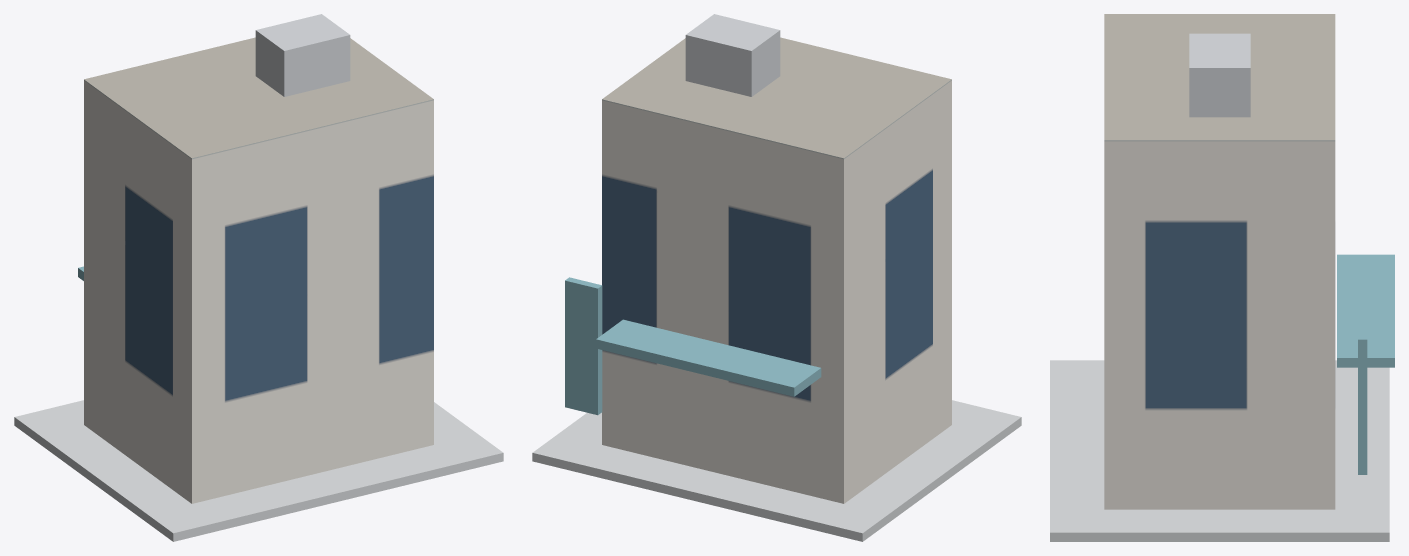
File: Area_shop.glb
3 renders of one model, left to right at view 1: azimuth 30°, elevation 25°; view 2: azimuth 150°, elevation 25°; view 3: azimuth 270°, elevation 25°, orthographic. The views are drawn at different scales.
Visible parts, largest first — view 1: bldg_shop, platform.003, roof_ac; view 2: bldg_shop, platform.003, awning.001, roof_ac, vsign.001; view 3: bldg_shop, platform.003, awning.001, roof_ac, vsign.001.
Boxes of the visible parts, left/top/right/bottom form: bldg_shop: left=84, top=37, right=433, bottom=503; platform.003: left=14, top=400, right=503, bottom=541; roof_ac: left=255, top=14, right=350, bottom=96; bldg_shop: left=602, top=37, right=951, bottom=503; platform.003: left=532, top=400, right=1021, bottom=541; awning.001: left=596, top=319, right=821, bottom=396; roof_ac: left=685, top=14, right=780, bottom=96; vsign.001: left=565, top=277, right=602, bottom=415; bldg_shop: left=1104, top=14, right=1335, bottom=509; platform.003: left=1050, top=360, right=1389, bottom=541; awning.001: left=1337, top=254, right=1394, bottom=367; roof_ac: left=1189, top=33, right=1250, bottom=117; vsign.001: left=1358, top=322, right=1367, bottom=474.
Size of the model in its own units: 6 by 6.95 by 5.07.
5 materials, 1 textured.
